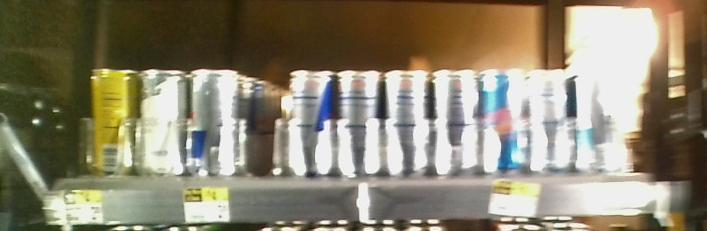bottle: (382, 60, 434, 181), (88, 55, 137, 175), (483, 53, 529, 180), (139, 57, 187, 177), (191, 58, 237, 182), (287, 60, 335, 178), (437, 60, 480, 184), (337, 61, 379, 175), (533, 53, 571, 173)
